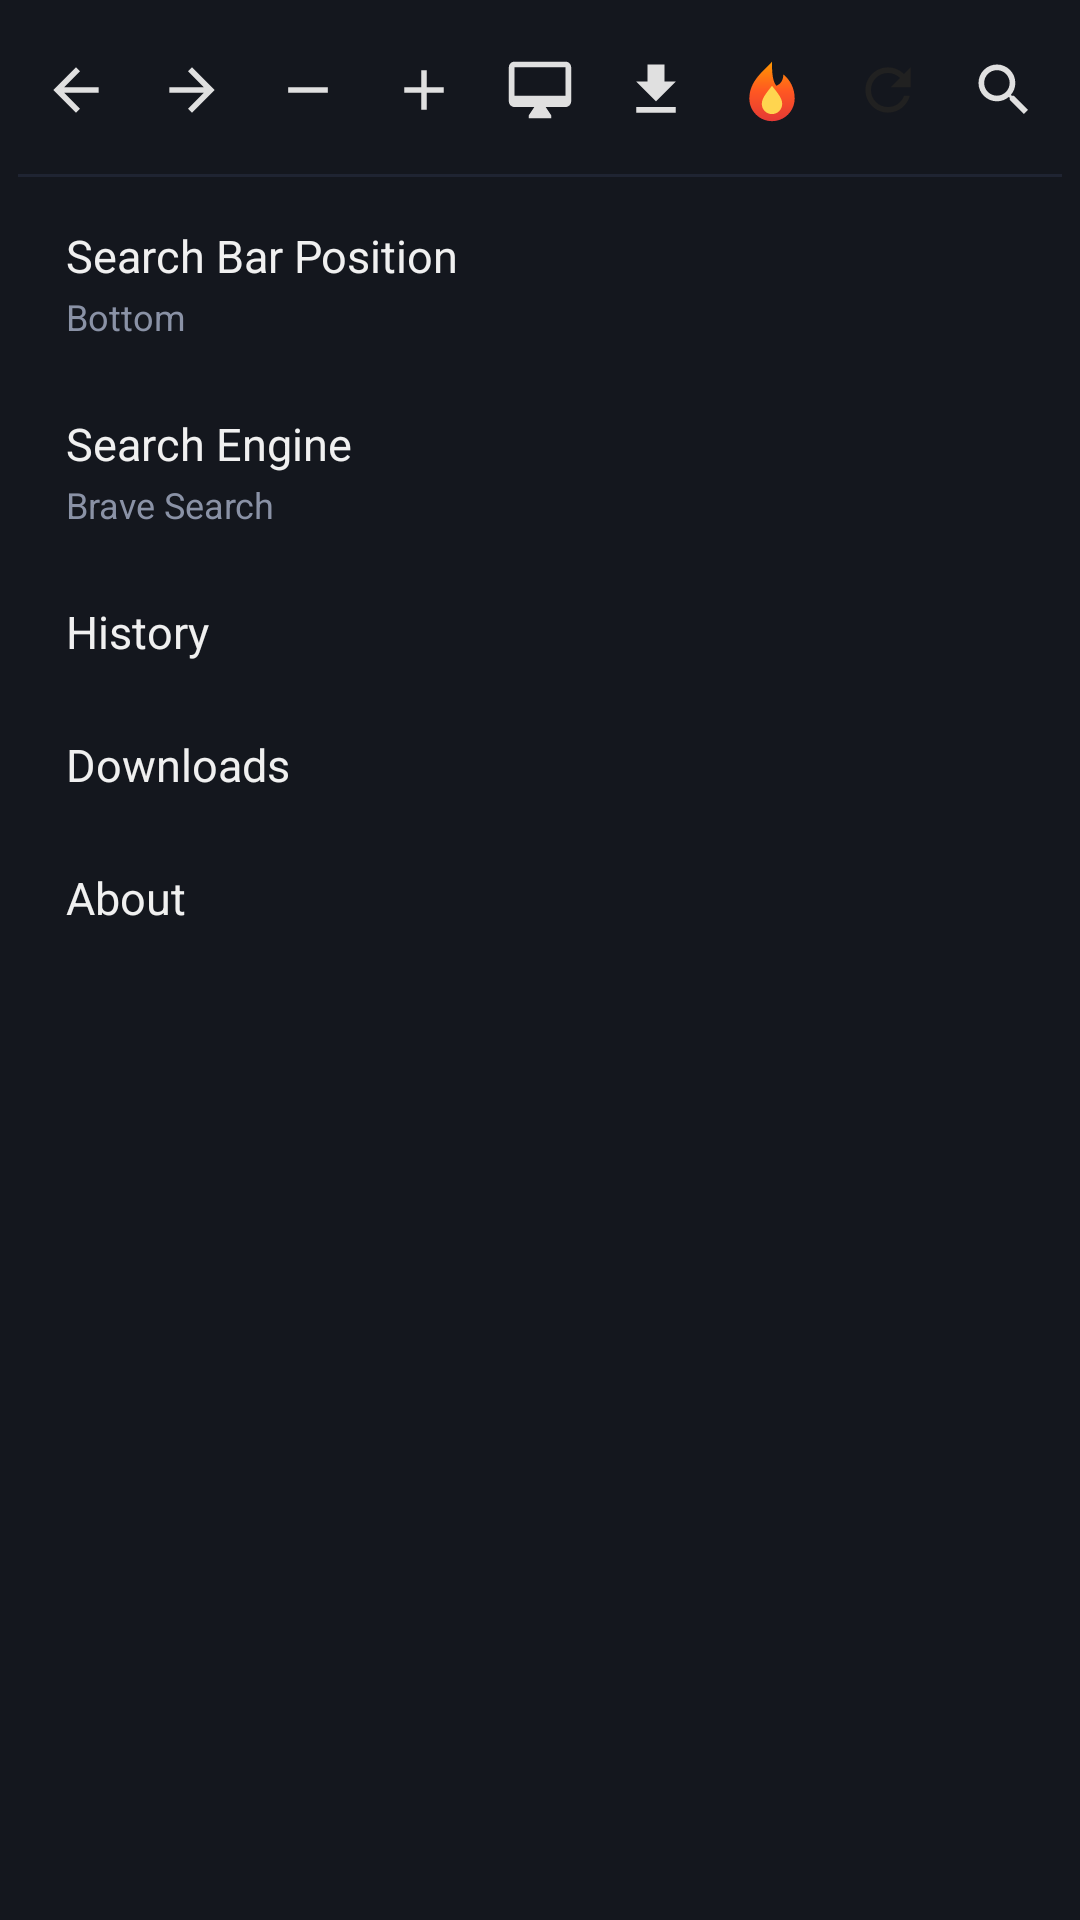

Icon bounding boxes for this 1080px x 1920px phone screenshot, format (x1, y1, x2, y2):
Back: (53, 67, 99, 113)
Clear all data: (749, 62, 795, 122)
Desktop Site: (508, 61, 572, 119)
Download page: (636, 64, 676, 113)
Forward: (169, 67, 215, 113)
Search in page: (978, 64, 1028, 114)
Zoom In: (404, 70, 444, 110)
